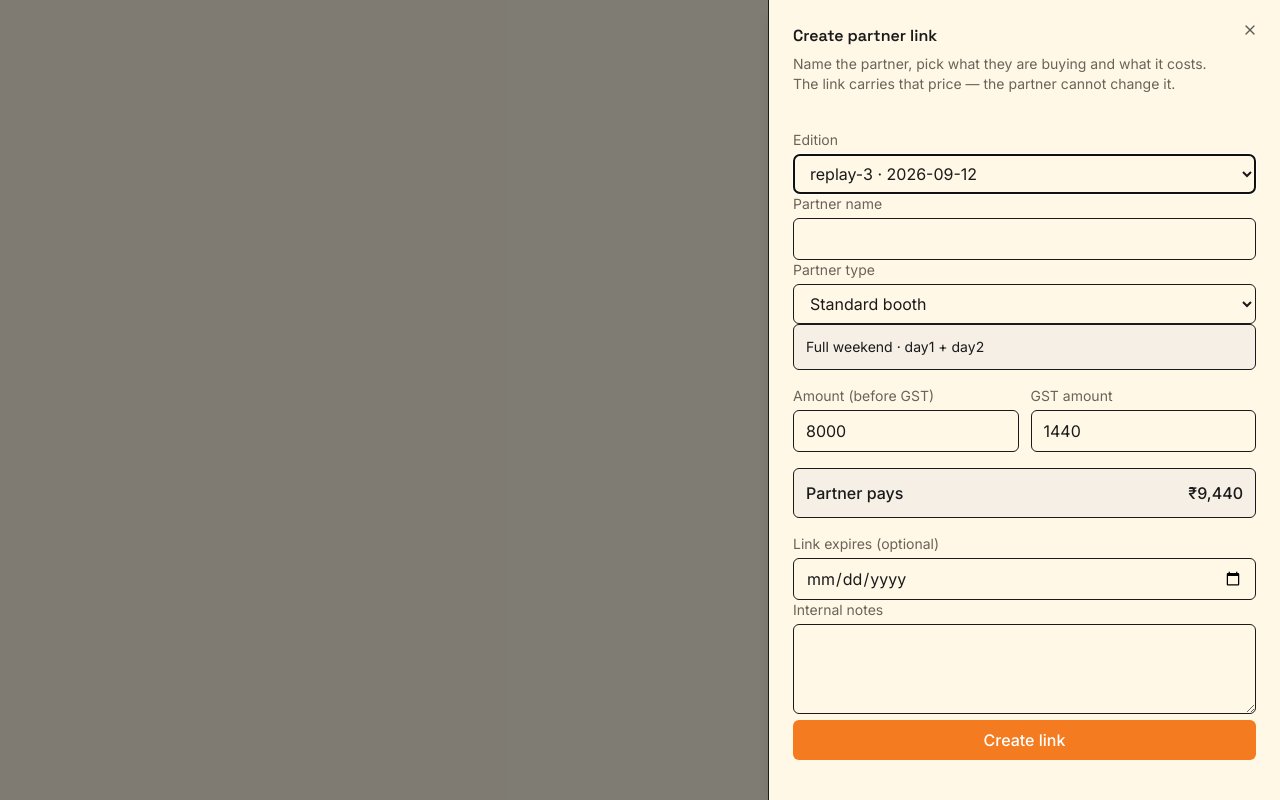
Scenario: creates a sponsorship link with the negotiated amount and shows it to copy
The image size is (1280, 800).
Type "Meeple Mart" into the field labelled "Partner name" at (1024, 239), box 793,218 -> 1256,260
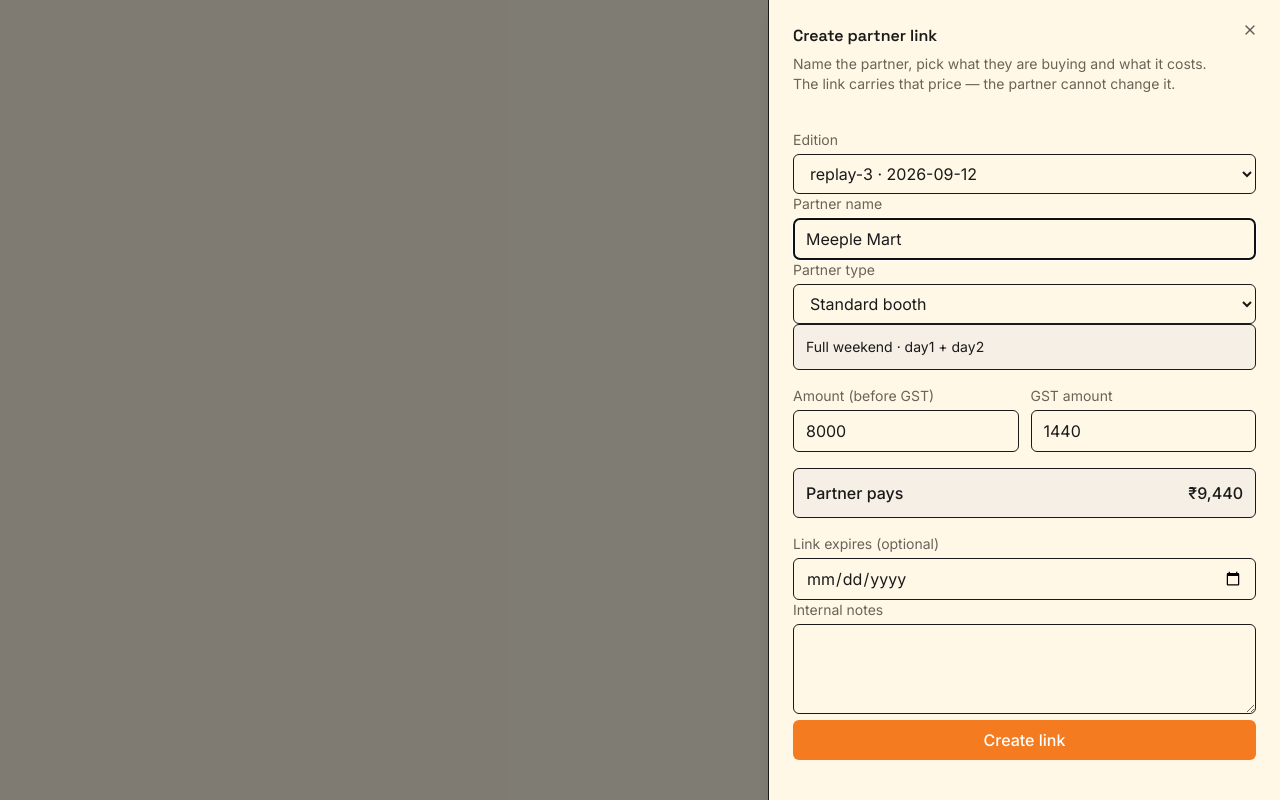
Select "Zone partner" in the dropdown labelled "Partner type" at (1024, 304), box 793,284 -> 1256,324
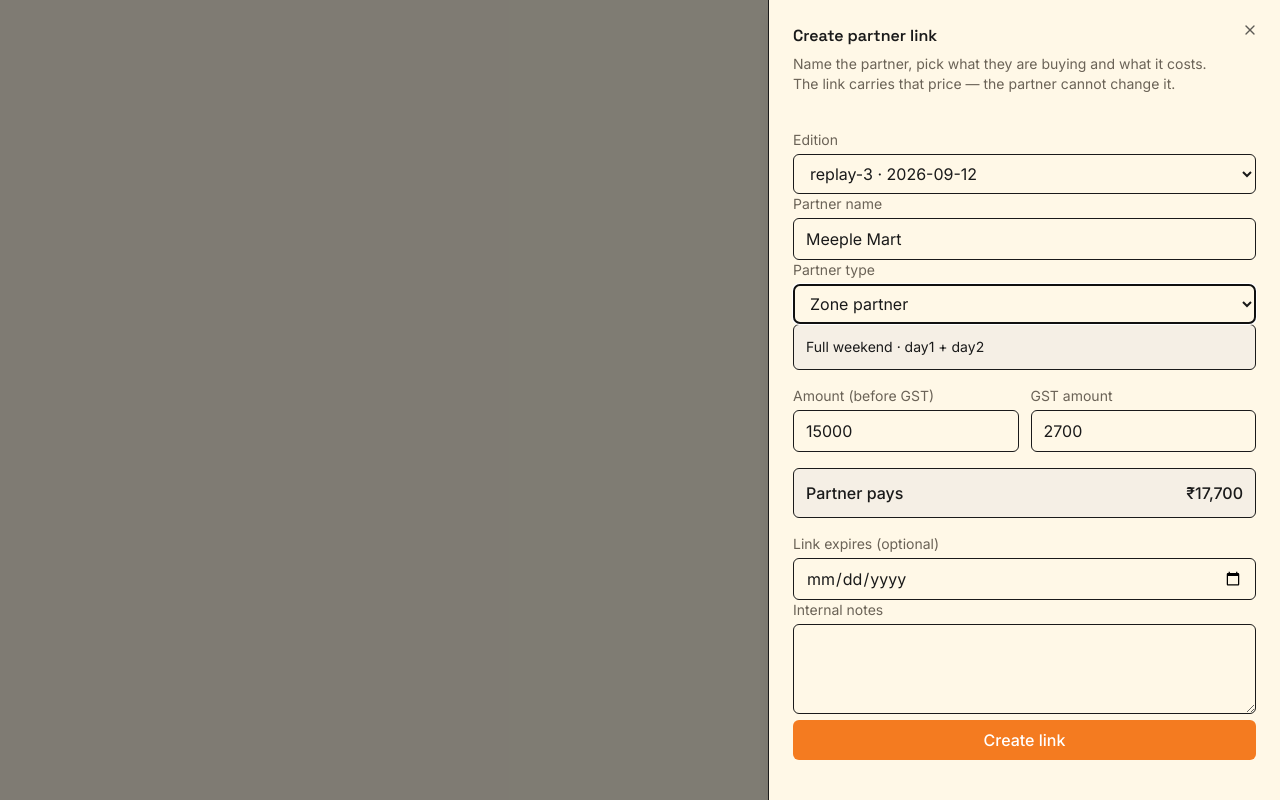
Replace the text in the number field named "Amount before GST" with "12000" at (906, 431), box 793,410 -> 1018,452
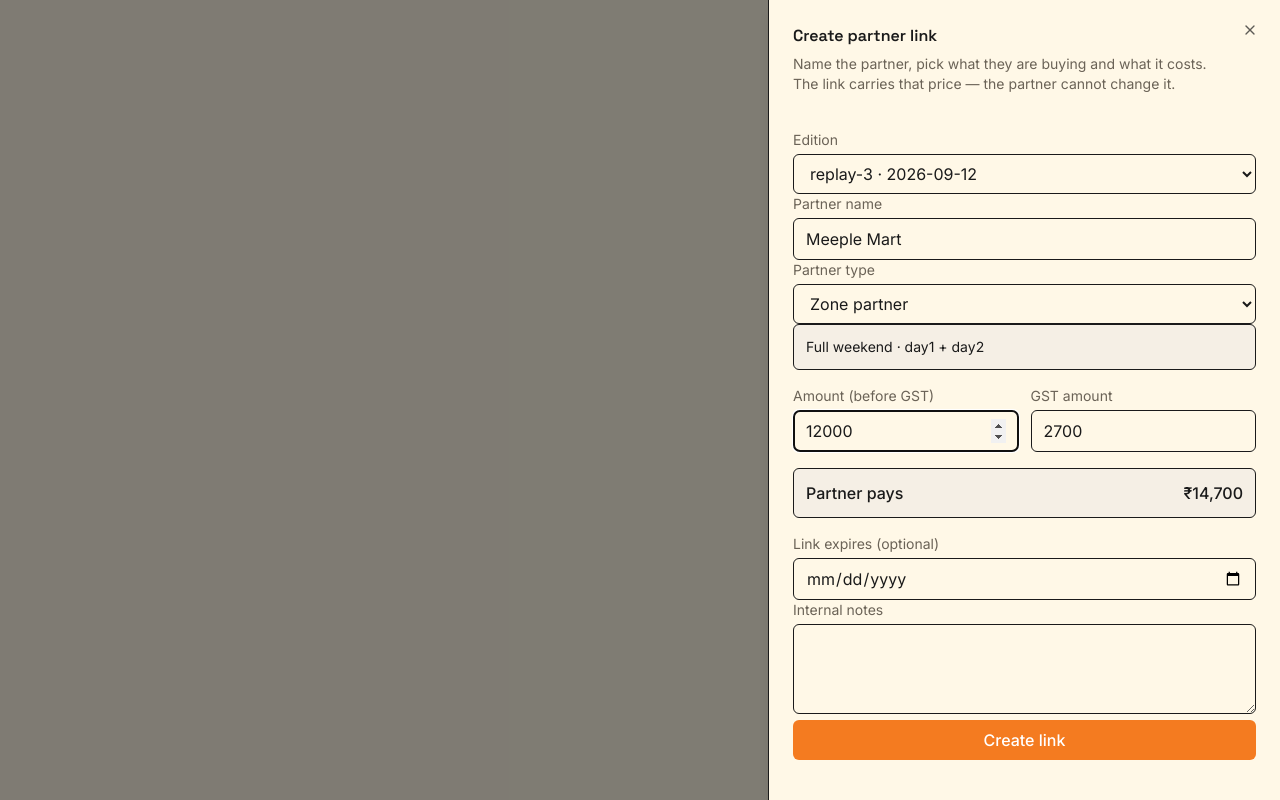
Click the button "Create link" at (1024, 740), box 793,720 -> 1256,760
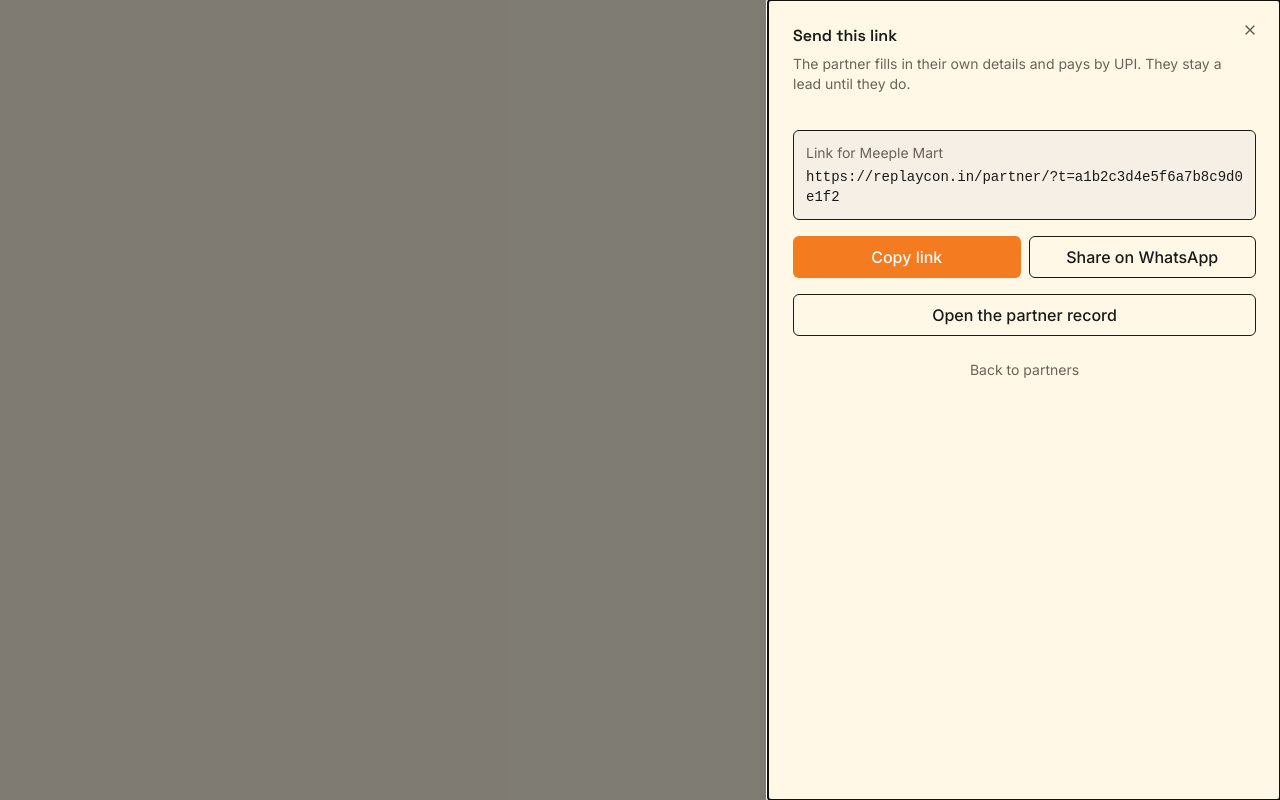
Now the text "https://replaycon.in/partner/?t=a1b2c3d4e5f6a7b8c9d0e1f2" is shown, box 806,167 -> 1243,207
